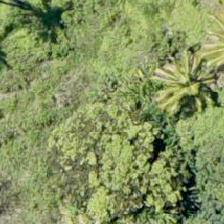Kelapa_Sawit: (138, 42, 223, 133)
